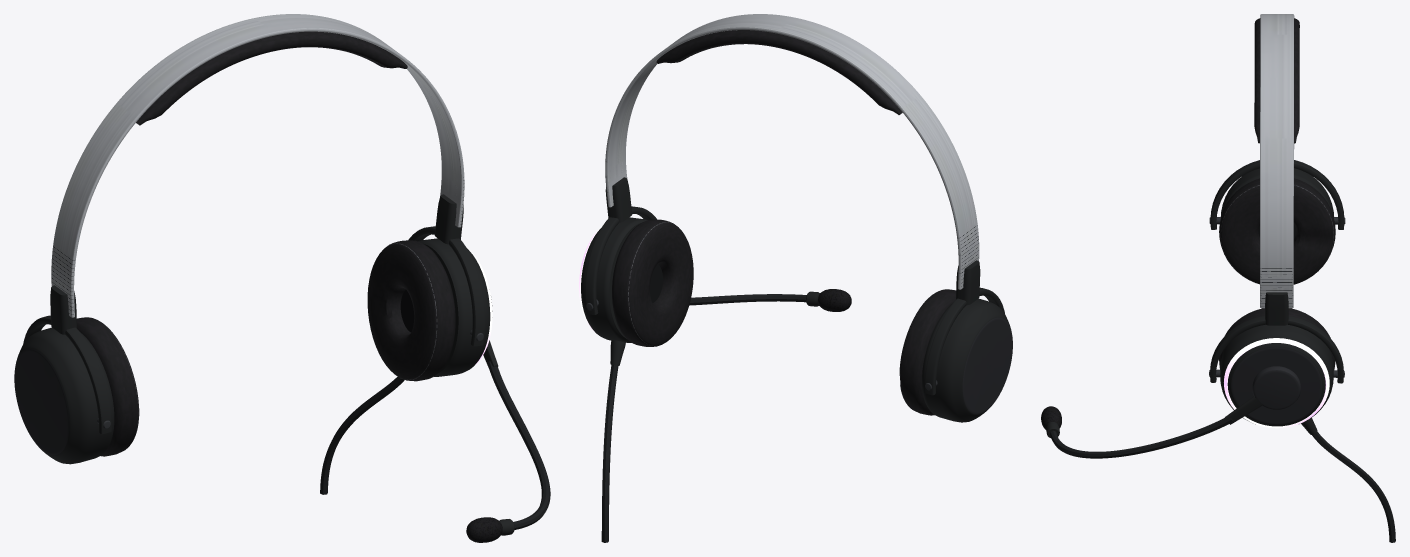
The model's file is techlead.glb.
3 views of the same model, side by side, from view 1: azimuth 30°, elevation 25°; view 2: azimuth 150°, elevation 25°; view 3: azimuth 270°, elevation 25° (orthographic). The views are drawn at different scales.
Parts seen in each view (by area): view 1: tl_arco_malha, tl_concha_e_malha, tl_concha_d_malha, tl_haste_malha, tl_cabo_malha, tl_mic_malha; view 2: tl_arco_malha, tl_concha_e_malha, tl_concha_d_malha, tl_cabo_malha, tl_haste_malha, tl_mic_malha; view 3: tl_arco_malha, tl_concha_e_malha, tl_concha_d_malha, tl_haste_malha, tl_led_malha, tl_cabo_malha, tl_mic_malha.
Boxes of the visible parts, bbox=[...] form: tl_arco_malha: bbox=[51, 14, 464, 317]; tl_concha_e_malha: bbox=[367, 194, 492, 381]; tl_concha_d_malha: bbox=[14, 285, 139, 464]; tl_haste_malha: bbox=[483, 340, 550, 529]; tl_cabo_malha: bbox=[320, 376, 404, 494]; tl_mic_malha: bbox=[466, 517, 514, 542]; tl_arco_malha: bbox=[605, 14, 979, 289]; tl_concha_e_malha: bbox=[581, 177, 693, 346]; tl_concha_d_malha: bbox=[899, 260, 1012, 422]; tl_cabo_malha: bbox=[601, 340, 625, 542]; tl_haste_malha: bbox=[689, 294, 806, 305]; tl_mic_malha: bbox=[806, 289, 851, 311]; tl_arco_malha: bbox=[1254, 14, 1299, 308]; tl_concha_e_malha: bbox=[1209, 292, 1344, 426]; tl_concha_d_malha: bbox=[1209, 160, 1345, 284]; tl_haste_malha: bbox=[1050, 366, 1300, 458]; tl_led_malha: bbox=[1224, 338, 1329, 428]; tl_cabo_malha: bbox=[1301, 418, 1395, 542]; tl_mic_malha: bbox=[1041, 406, 1061, 437].
Bounding box in the file's own units: 0.2648 × 0.3199 × 0.2262.
Materials: 2 (1 with a texture image).
